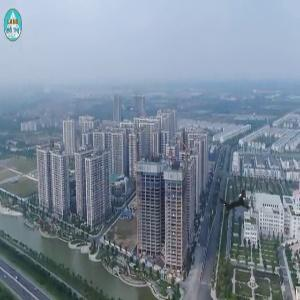drone: (198, 169, 270, 241)
